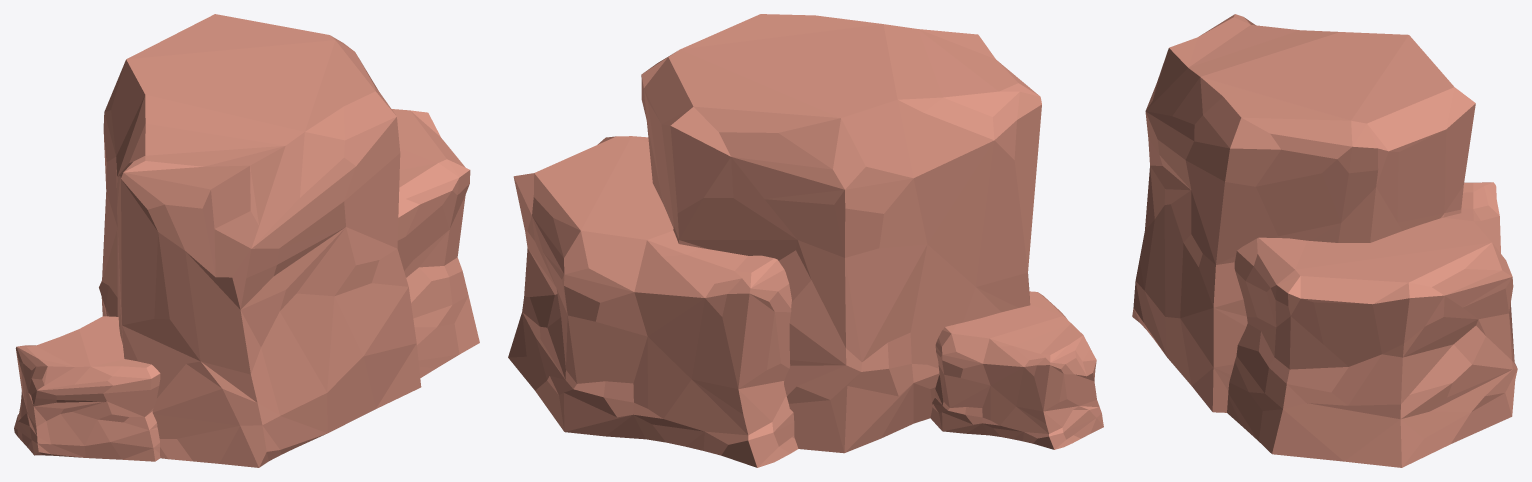
The model's file is Cliff_02.fbx.
3 views of the same model, side by side, from view 1: azimuth 30°, elevation 25°; view 2: azimuth 150°, elevation 25°; view 3: azimuth 270°, elevation 25° (orthographic). The views are drawn at different scales.
Parts seen in each view (by area): view 1: Cliff_02; view 2: Cliff_02; view 3: Cliff_02.
Part boxes in pixels (<box>): Cliff_02: <box>14,14,479,467</box>; Cliff_02: <box>508,14,1103,467</box>; Cliff_02: <box>1132,14,1517,467</box>.
Bounding box in the file's own units: 212 × 127 × 154.
